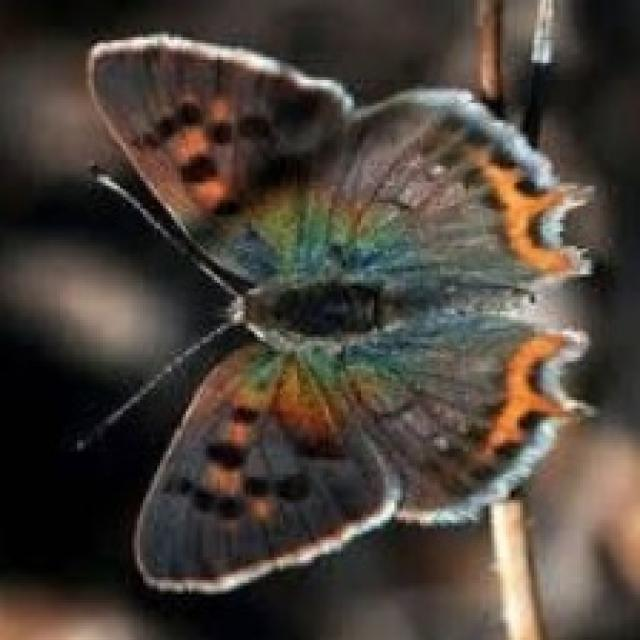butterfly: (68, 0, 602, 594)
